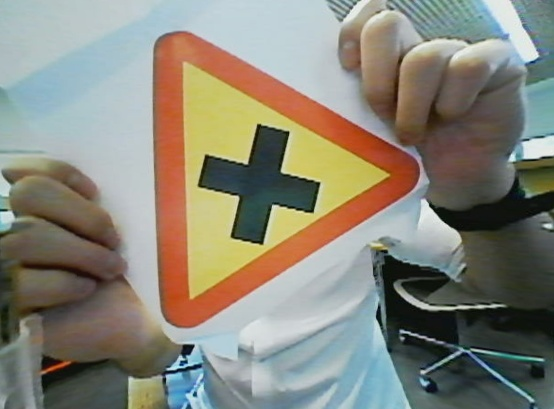junction: (140, 26, 432, 326)
